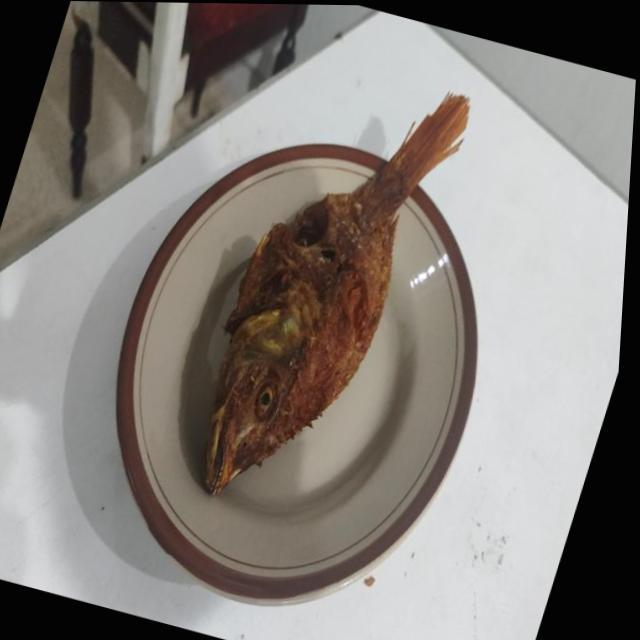ikan_mujair: (206, 95, 468, 492)
